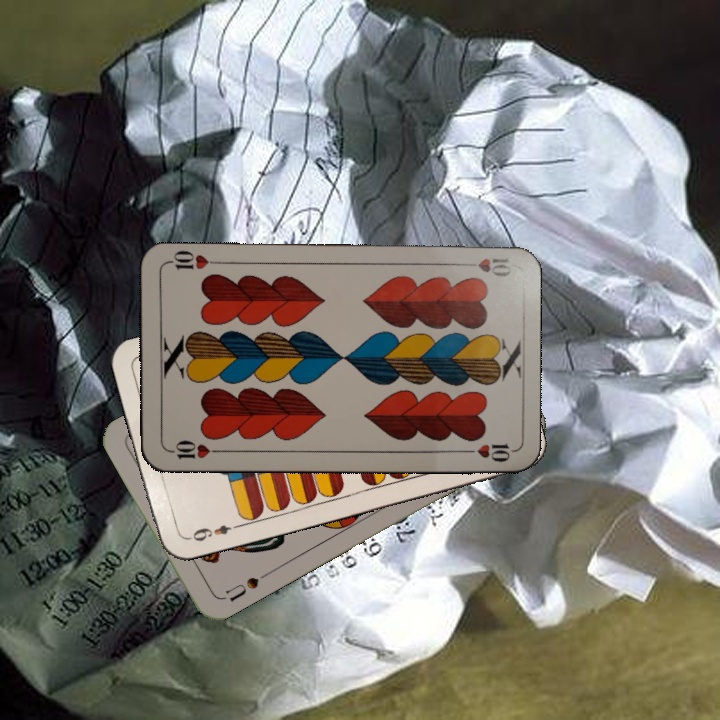E9: (183, 520, 241, 544)
H10: (164, 436, 224, 461), (455, 254, 513, 279)
SU: (221, 568, 271, 605)
